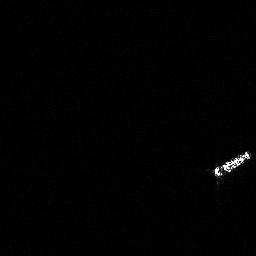ship: (210, 147, 253, 181)
